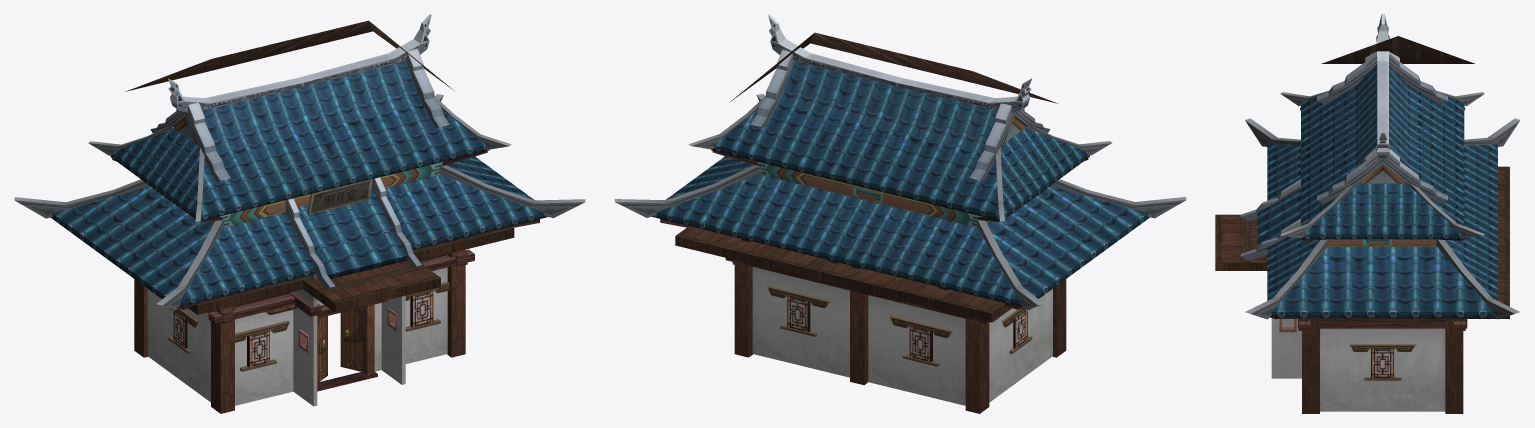
Rendered from chinese-house2.glb.
The picture shows the model from 3 angles, left to right: view 1: azimuth 30°, elevation 25°; view 2: azimuth 150°, elevation 25°; view 3: azimuth 270°, elevation 25°; orthographic projection. The views are drawn at different scales.
Visible parts, largest first — view 1: chinese building 002_chinese building 002_0, chinese building 002_inside_0; view 2: chinese building 002_chinese building 002_0, chinese building 002_inside_0; view 3: chinese building 002_chinese building 002_0, chinese building 002_inside_0.
Boxes of the visible parts, x1,y1,x2,y2 form: chinese building 002_chinese building 002_0: (14,14,585,413); chinese building 002_inside_0: (125,20,514,314); chinese building 002_chinese building 002_0: (614,14,1186,413); chinese building 002_inside_0: (675,32,1058,322); chinese building 002_chinese building 002_0: (1240,14,1520,413); chinese building 002_inside_0: (1215,36,1509,318).
Bounding box in the file's own units: 28.79 × 19.71 × 19.
2 materials, 2 textured.
